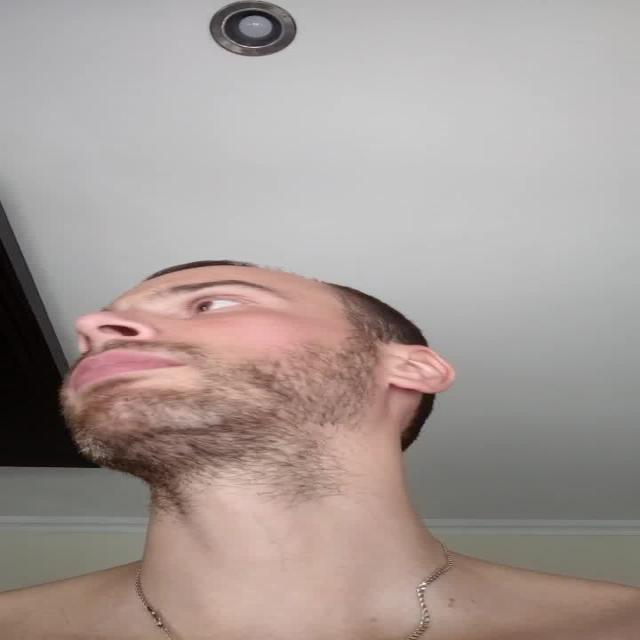earlobe: (388, 374, 429, 394)
eye: (188, 294, 255, 315)
nose: (75, 334, 142, 356)
wholeear: (388, 345, 455, 394)
